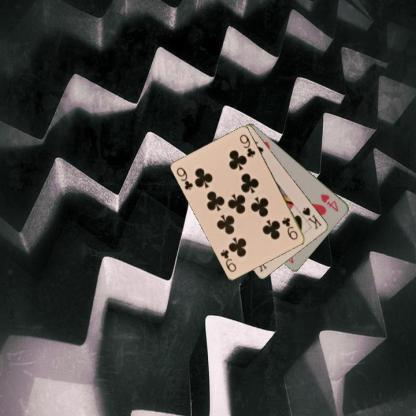4h: (318, 191, 340, 213)
9c: (174, 165, 195, 191), (279, 215, 299, 241)
Ks: (300, 204, 323, 230)
